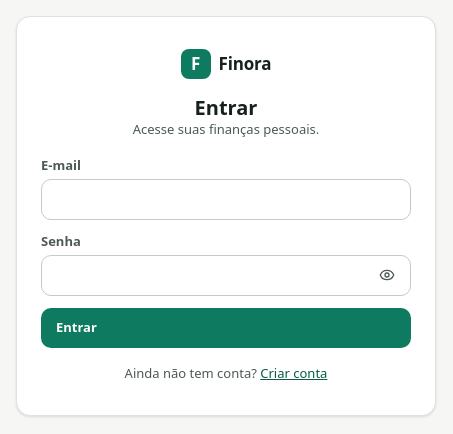
Test: LoginPage › alterna a visibilidade da senha de forma acessível
The width and height of the screenshot is (453, 434).
Click the button named "Mostrar senha" at coordinates (387, 275), box [367,255,407,295]
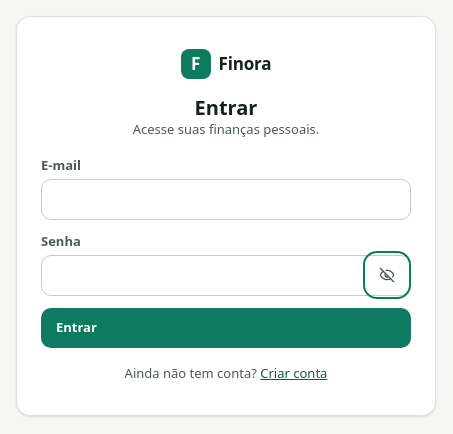
expect the field labelled "Senha" shows its text: met, box [41,255,411,296]
Click the button named "Ocultar senha" at coordinates (387, 275), box [367,255,407,295]
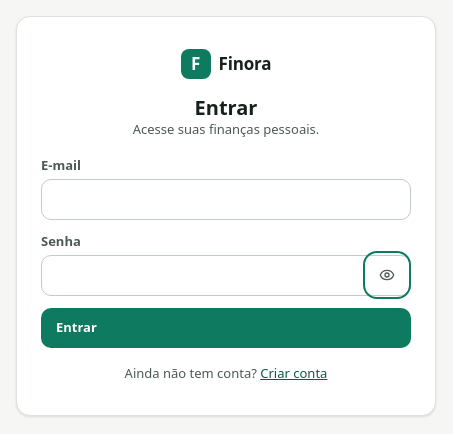
expect the password field labelled "Senha" hides its text: met, box [41,255,411,296]
